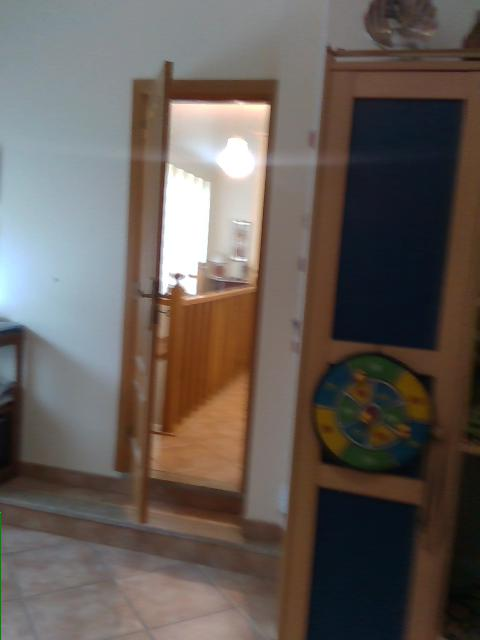open_door: (111, 54, 278, 527)
